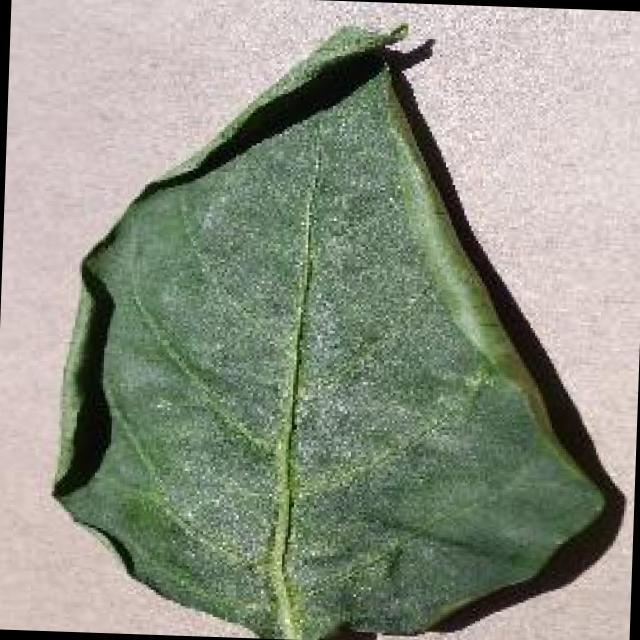Chilli_Healthy: (44, 8, 625, 640)
